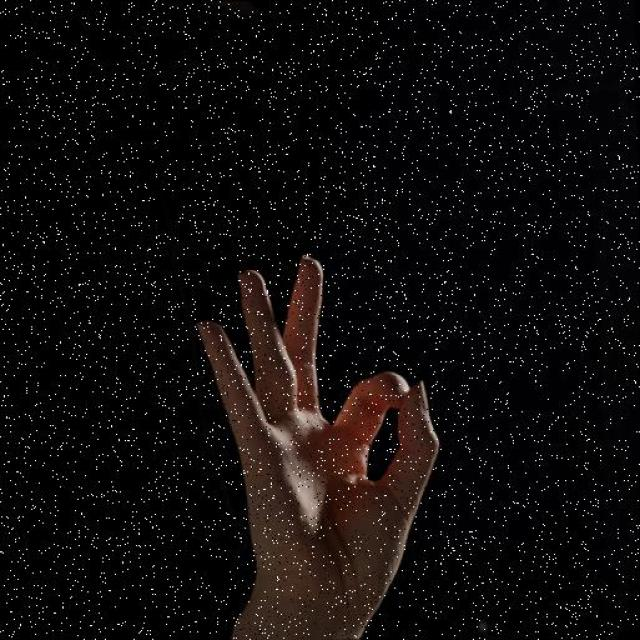F: (191, 250, 448, 618)
